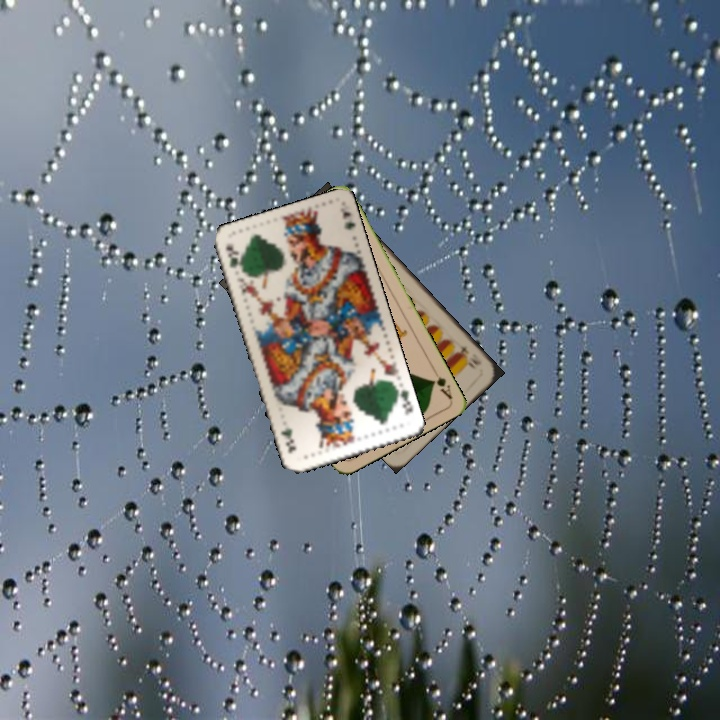E10: (453, 341, 484, 372)
GA: (427, 364, 455, 401)
GK: (221, 240, 246, 276), (392, 384, 416, 417)
